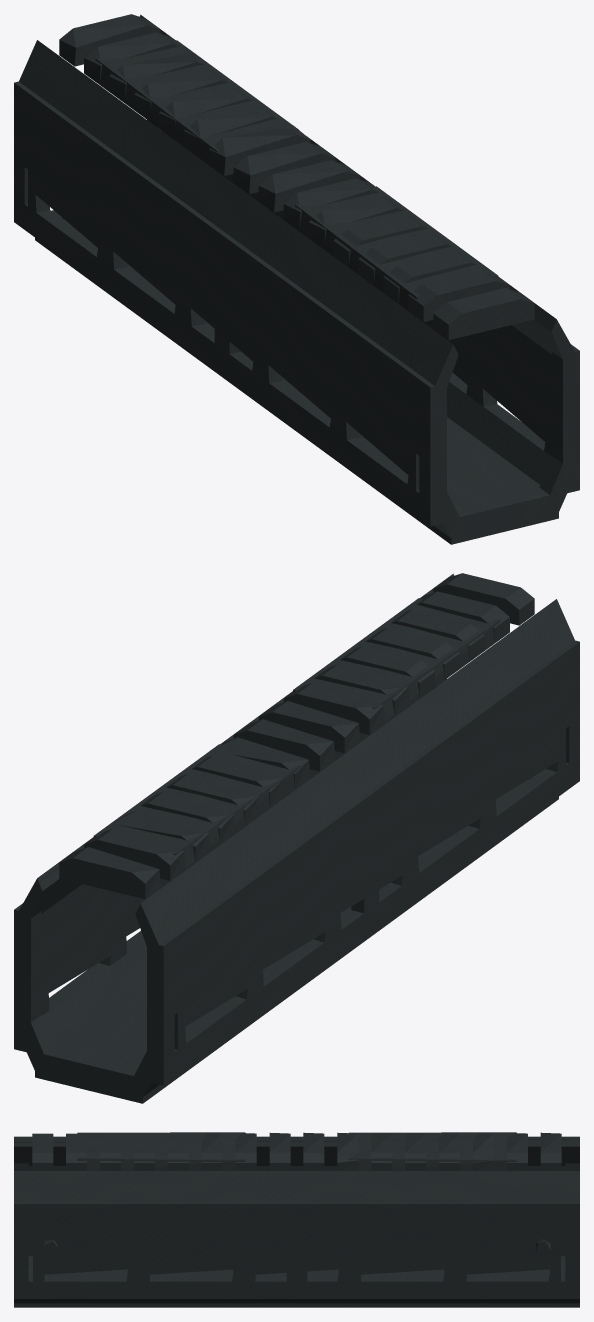
File: ar_octagonal.glb
The picture shows the model from 3 angles, top to bottom: view 1: azimuth 30°, elevation 25°; view 2: azimuth 150°, elevation 25°; view 3: azimuth 270°, elevation 25°; orthographic projection. The views are drawn at different scales.
Parts seen in each view (by area): view 1: handguard__ar_octagonal_LOD0_RAID_Secondary_Original_steel, handguard__ar_octagonal_LOD1_RAID_Secondary_Original_steel; view 2: handguard__ar_octagonal_LOD0_RAID_Secondary_Original_steel, handguard__ar_octagonal_LOD1_RAID_Secondary_Original_steel; view 3: handguard__ar_octagonal_LOD0_RAID_Secondary_Original_steel, handguard__ar_octagonal_LOD1_RAID_Secondary_Original_steel.
Boxes of the visible parts, x1,y1,x2,y2 form: handguard__ar_octagonal_LOD0_RAID_Secondary_Original_steel: [14, 14, 579, 544]; handguard__ar_octagonal_LOD1_RAID_Secondary_Original_steel: [28, 40, 579, 526]; handguard__ar_octagonal_LOD0_RAID_Secondary_Original_steel: [14, 573, 579, 1103]; handguard__ar_octagonal_LOD1_RAID_Secondary_Original_steel: [15, 598, 574, 1095]; handguard__ar_octagonal_LOD0_RAID_Secondary_Original_steel: [14, 1132, 579, 1307]; handguard__ar_octagonal_LOD1_RAID_Secondary_Original_steel: [14, 1132, 570, 1298].
Size of the model in its own units: 0.084 by 0.11 by 0.385.
1 material, 1 textured.
